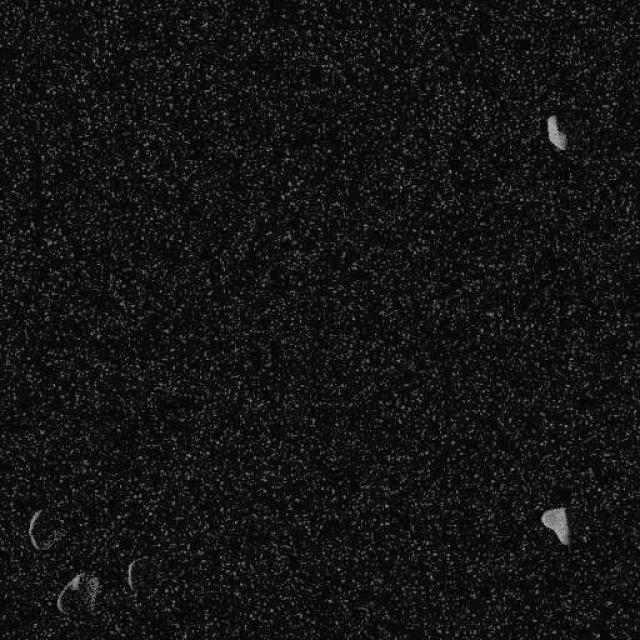D2: (55, 570, 100, 615), (27, 506, 62, 552), (540, 505, 570, 546), (545, 112, 567, 152), (125, 555, 147, 591)
